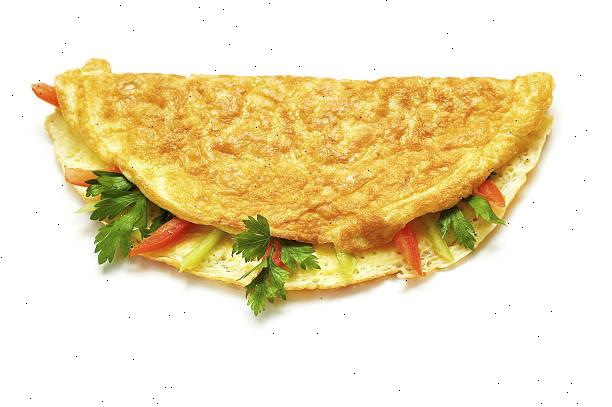omelette: (16, 51, 612, 303)
